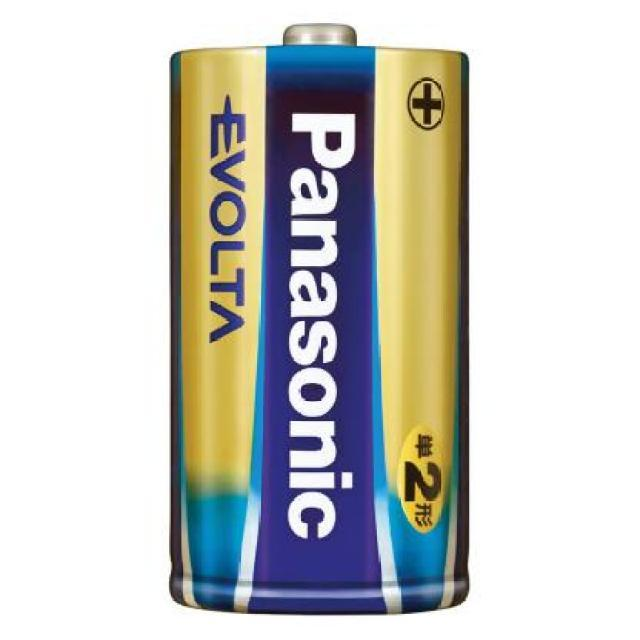hazardous waste: (162, 21, 476, 618)
